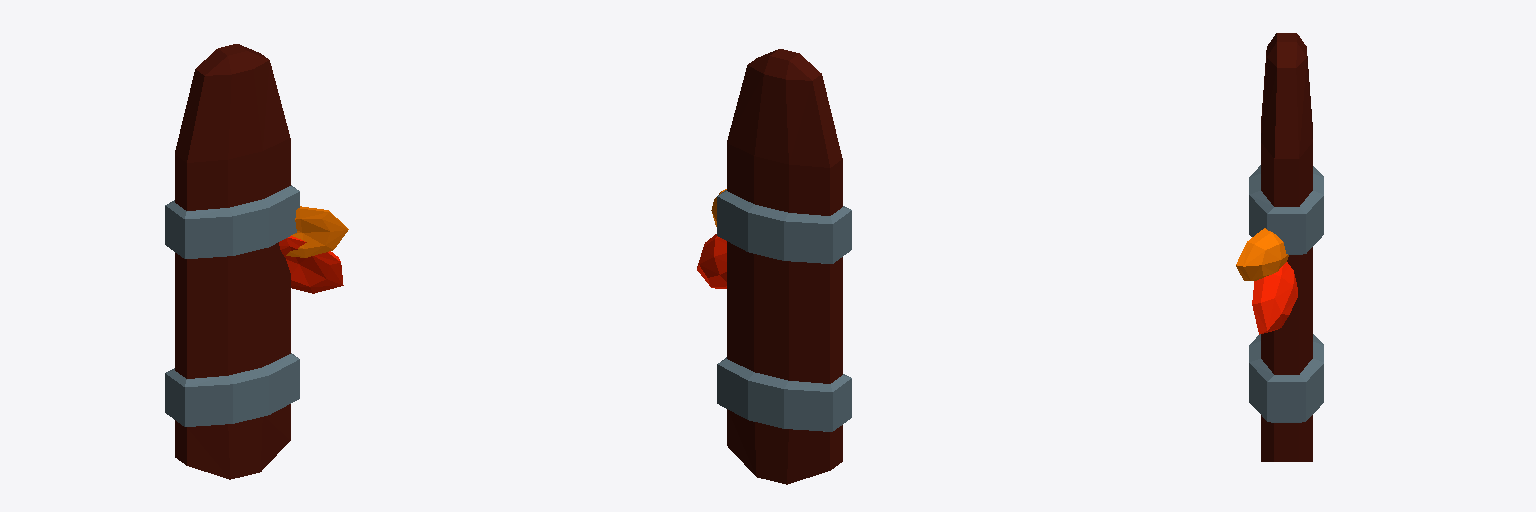
File: sword_sheath.obj
3 views of the same model, side by side, from view 1: azimuth 30°, elevation 25°; view 2: azimuth 150°, elevation 25°; view 3: azimuth 270°, elevation 25° (orthographic).
Parts seen in each view (by area): view 1: sword_sheath_Cube.191; view 2: sword_sheath_Cube.191; view 3: sword_sheath_Cube.191.
Boxes of the visible parts, <box> form: sword_sheath_Cube.191: <box>165,44,348,479</box>; sword_sheath_Cube.191: <box>697,49,851,484</box>; sword_sheath_Cube.191: <box>1236,33,1323,461</box>.
Bounding box in the file's own units: 0.3143 × 0.8063 × 0.1552.